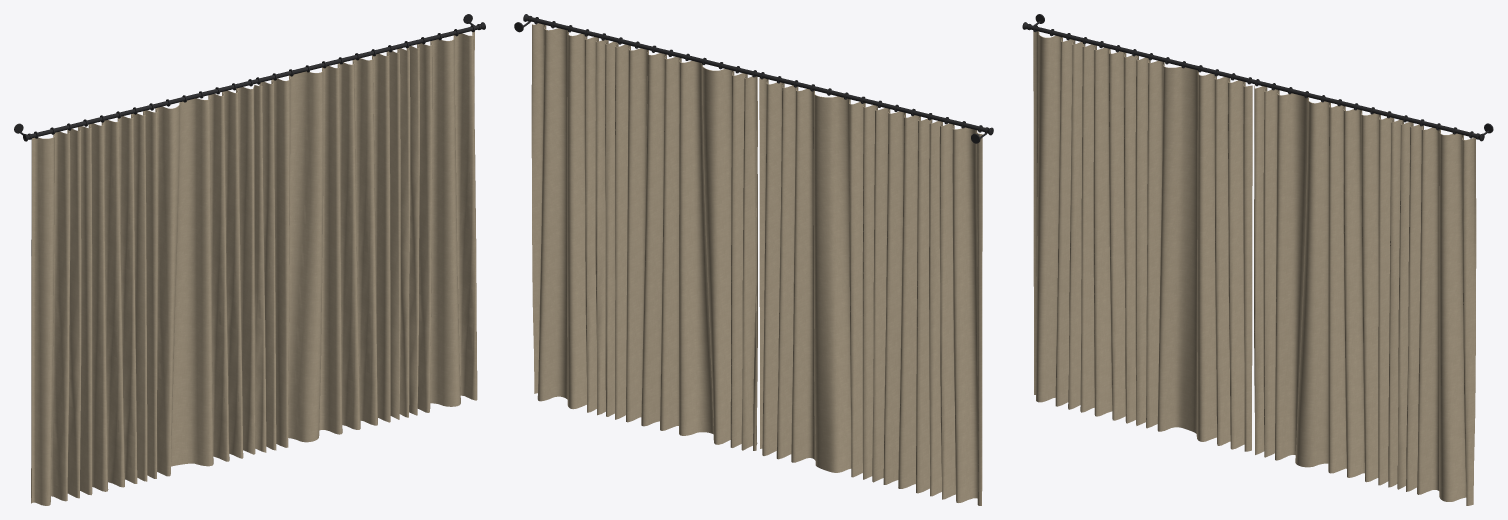
The model's file is curtain_290.glb.
The picture shows the model from 3 angles, left to right: view 1: azimuth 30°, elevation 25°; view 2: azimuth 150°, elevation 25°; view 3: azimuth 330°, elevation 25°; orthographic projection.
Parts seen in each view (by area): view 1: curtain_290_fabric_l, curtain_290_fabric_r, curtain_290_rod; view 2: curtain_290_fabric_r, curtain_290_fabric_l, curtain_290_rod; view 3: curtain_290_fabric_r, curtain_290_fabric_l, curtain_290_rod.
Boxes of the visible parts, x1,y1,x2,y2 form: curtain_290_fabric_l: (31, 86, 255, 505); curtain_290_fabric_r: (254, 31, 477, 452); curtain_290_rod: (23, 22, 485, 141); curtain_290_fabric_r: (531, 23, 757, 450); curtain_290_fabric_l: (759, 78, 982, 505); curtain_290_rod: (523, 14, 993, 135); curtain_290_fabric_r: (1254, 85, 1476, 505); curtain_290_fabric_l: (1033, 31, 1252, 451); curtain_290_rod: (1022, 22, 1484, 141).
Bounding box in the file's own units: 2.9 × 2.25 × 0.1825.
Materials: 2 (1 with a texture image).
